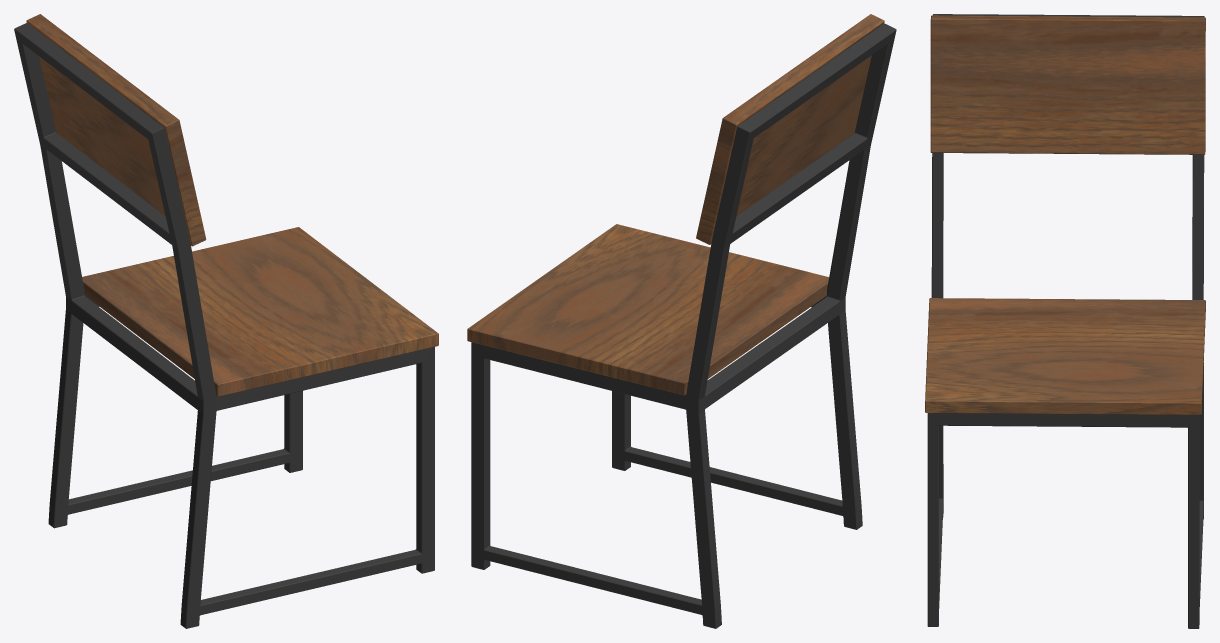
The model's file is kresls.glb.
3 renders of one model, left to right at view 1: azimuth 30°, elevation 25°; view 2: azimuth 150°, elevation 25°; view 3: azimuth 270°, elevation 25°, orthographic. The views are drawn at different scales.
Parts seen in each view (by area): view 1: Cube.003; view 2: Cube.003; view 3: Cube.003.
Boxes of the visible parts, x1,y1,x2,y2 form: Cube.003: (14,14,438,628); Cube.003: (467,14,896,628); Cube.003: (925,14,1205,628).
Size of the model in its own units: 0.5845 by 0.9926 by 0.5156.
Materials: 1 (1 with a texture image).
